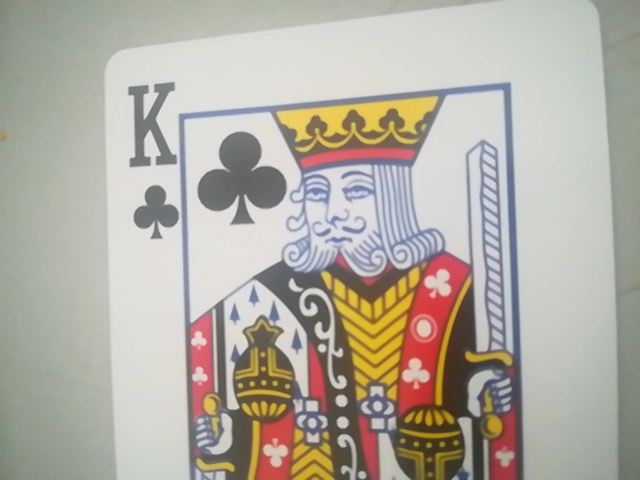mh k: (122, 9, 621, 475)
